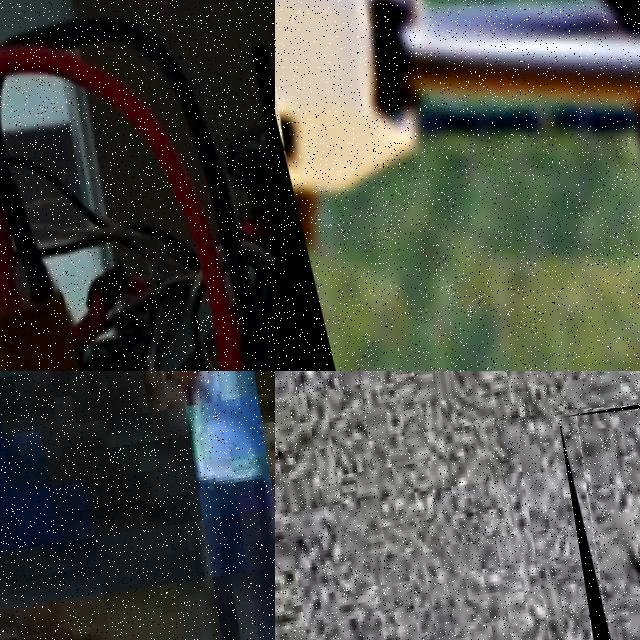drone: (275, 0, 640, 371), (0, 0, 275, 371), (559, 382, 640, 640)
